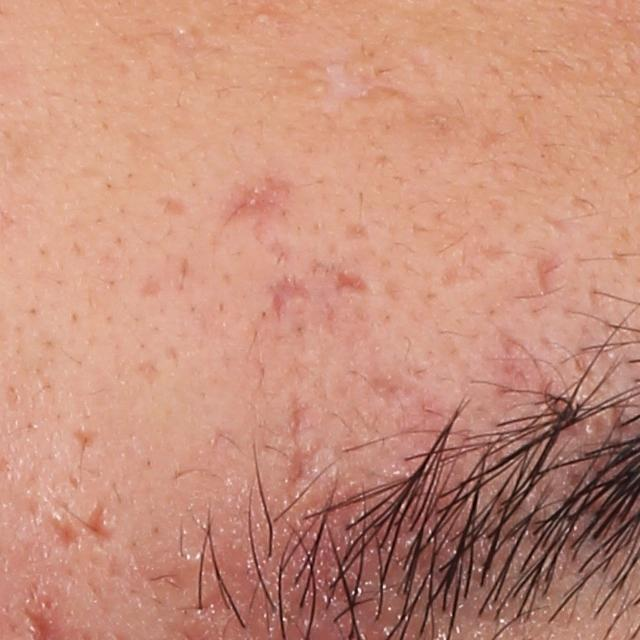atrophic_scar: (215, 173, 300, 231), (289, 390, 329, 499), (268, 275, 315, 322), (80, 495, 118, 547), (531, 252, 571, 298), (49, 512, 79, 556), (334, 268, 374, 297), (132, 358, 165, 388), (153, 195, 194, 215), (69, 426, 100, 450), (139, 273, 164, 298)
comedo: (254, 6, 276, 25)
